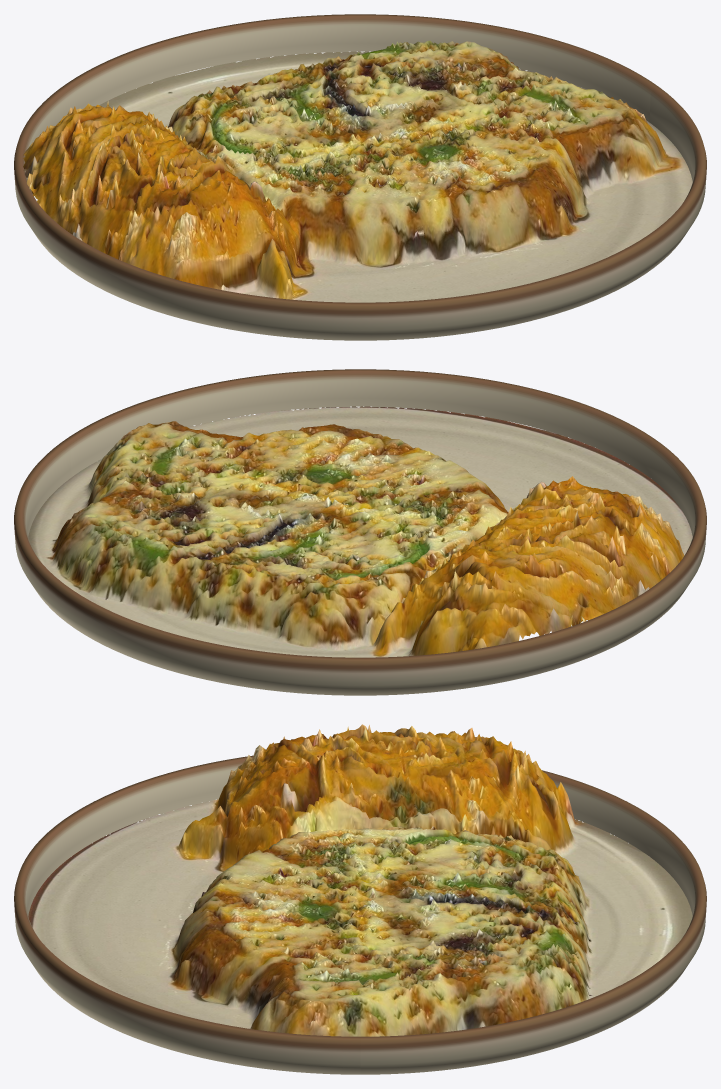
Rendered from eggplant-parmigiana.glb.
3 views of the same model, one above another, from view 1: azimuth 30°, elevation 25°; view 2: azimuth 150°, elevation 25°; view 3: azimuth 270°, elevation 25° (orthographic).
Parts seen in each view (by area): view 1: food, plate; view 2: food, plate; view 3: food, plate.
Boxes of the visible parts, x1=… form: food: x1=22, y1=40, x2=692, y2=302; plate: x1=14, y1=14, x2=706, y2=340; food: x1=28, y1=406, x2=692, y2=657; plate: x1=14, y1=369, x2=706, y2=695; food: x1=28, y1=724, x2=692, y2=1036; plate: x1=14, y1=755, x2=706, y2=1074.
Size of the model in its own units: 0.27 by 0.0484 by 0.27.
Materials: 2 (2 with a texture image).
